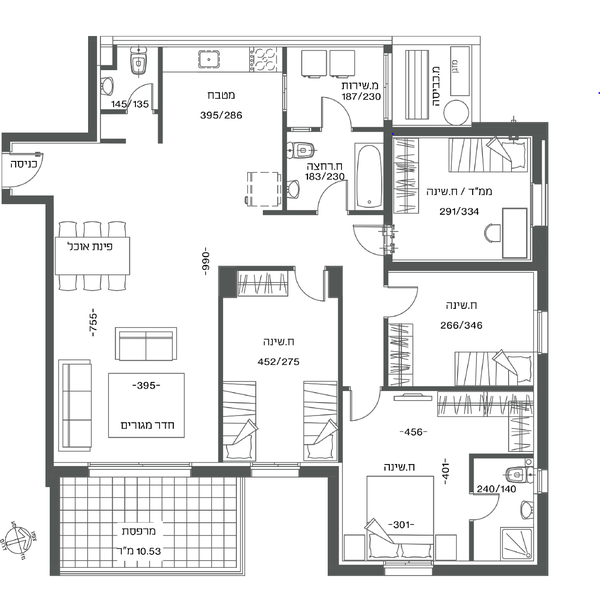door: (343, 385, 383, 425), (3, 152, 50, 186), (318, 90, 352, 135), (351, 222, 394, 257), (291, 265, 330, 303), (312, 177, 351, 214), (467, 487, 502, 525), (382, 286, 421, 317), (127, 83, 149, 113)
room: (336, 385, 547, 576), (87, 33, 288, 219), (218, 265, 347, 477), (383, 126, 551, 271), (383, 261, 547, 394)
wall: (384, 126, 547, 141), (47, 197, 55, 487), (386, 259, 547, 270), (532, 227, 550, 311), (435, 561, 545, 574), (338, 264, 345, 463), (383, 122, 395, 225), (537, 353, 547, 471), (49, 473, 61, 571), (3, 132, 101, 143), (384, 385, 536, 392), (329, 467, 339, 572), (89, 36, 98, 144), (538, 496, 550, 574), (157, 44, 165, 142), (220, 267, 224, 461), (334, 564, 385, 577), (196, 466, 250, 478), (282, 110, 288, 214), (1, 197, 56, 207), (220, 265, 297, 271), (300, 467, 338, 478), (384, 317, 387, 390), (267, 210, 315, 214), (353, 126, 387, 131)
window: (88, 461, 192, 478), (251, 459, 299, 480), (387, 559, 436, 577), (381, 53, 392, 120), (531, 182, 547, 224), (534, 312, 552, 349), (280, 75, 289, 108)
